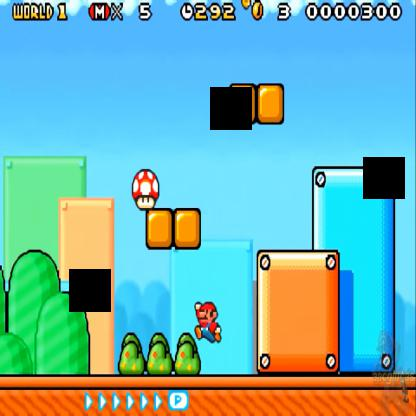Mario: (194, 295, 225, 349)
hongo: (132, 160, 160, 214)
moneda: (249, 0, 268, 29)
